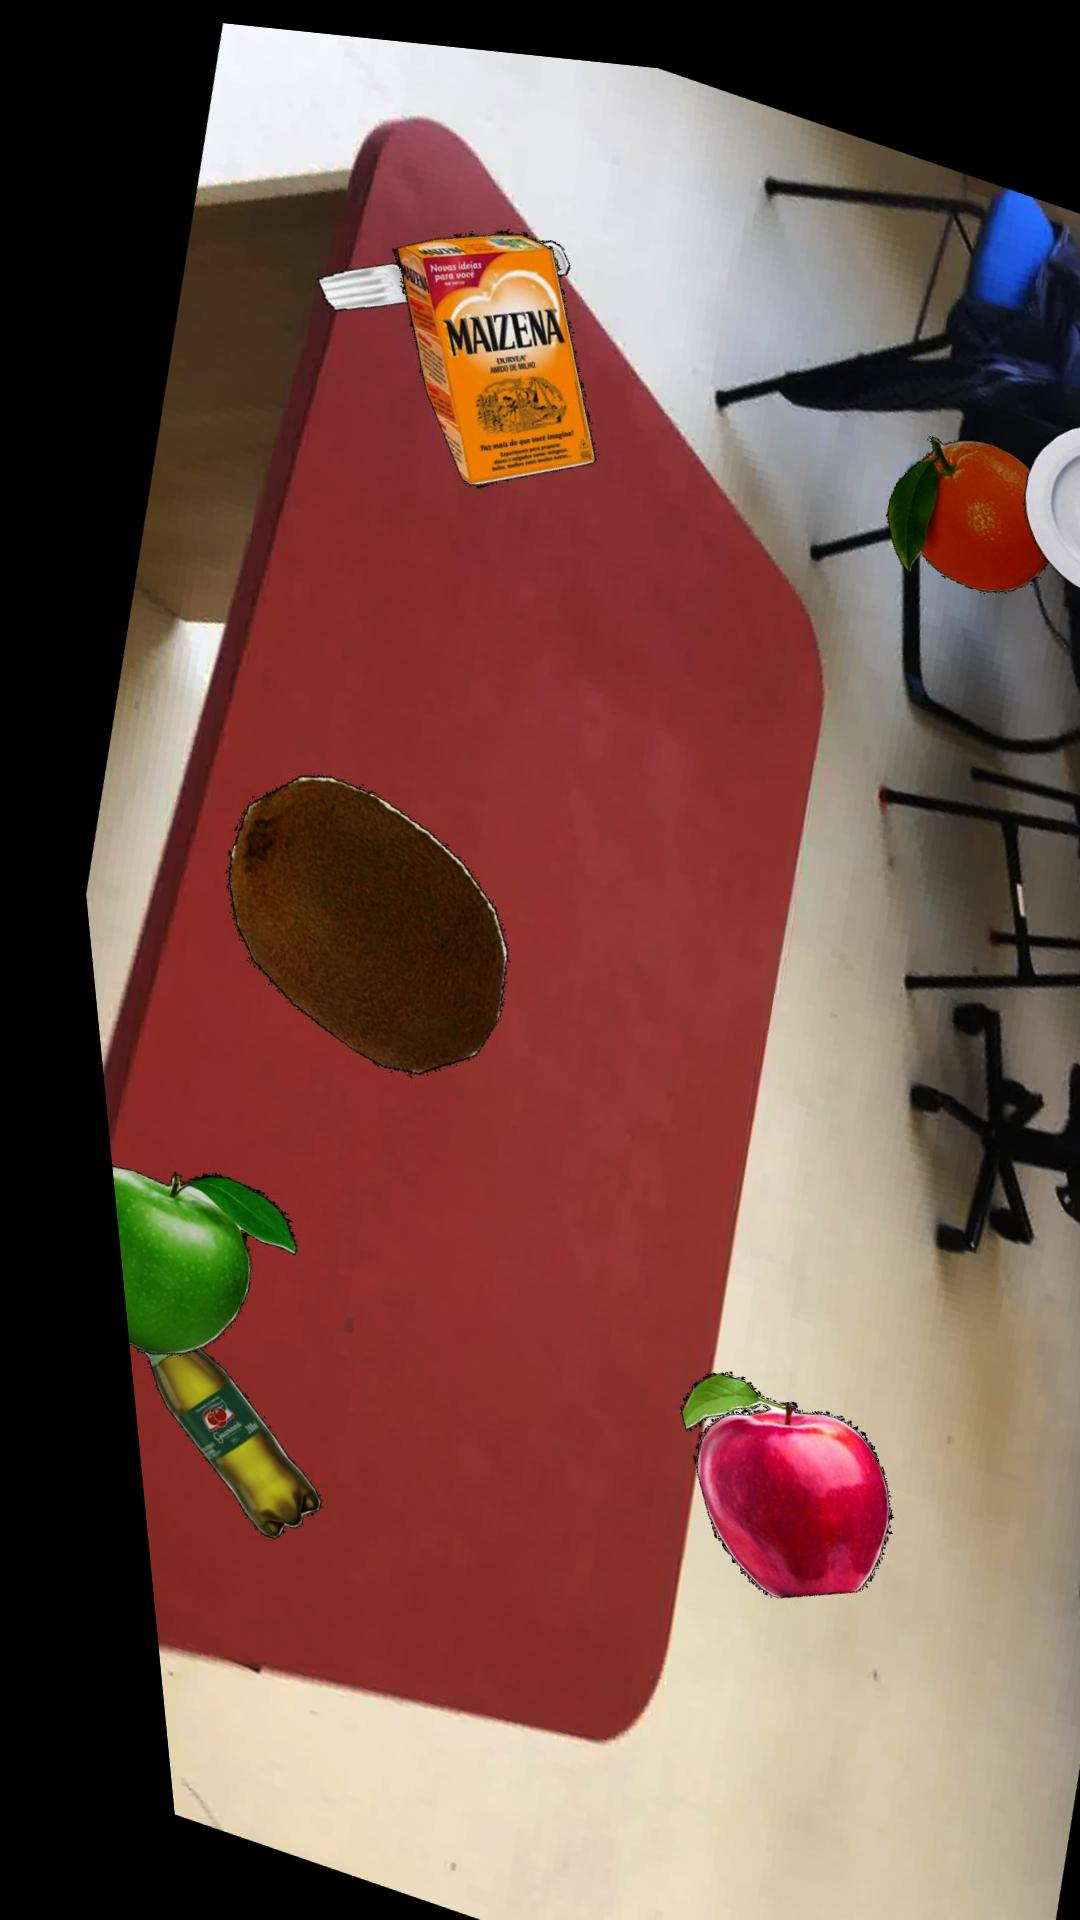apple: (650, 1361, 862, 1585)
fork: (311, 229, 564, 306)
green apple: (88, 1167, 270, 1356)
guarana: (108, 1348, 289, 1538)
kiwi: (208, 771, 488, 1069)
orange: (876, 418, 1038, 574)
plate: (1013, 402, 1080, 572)
